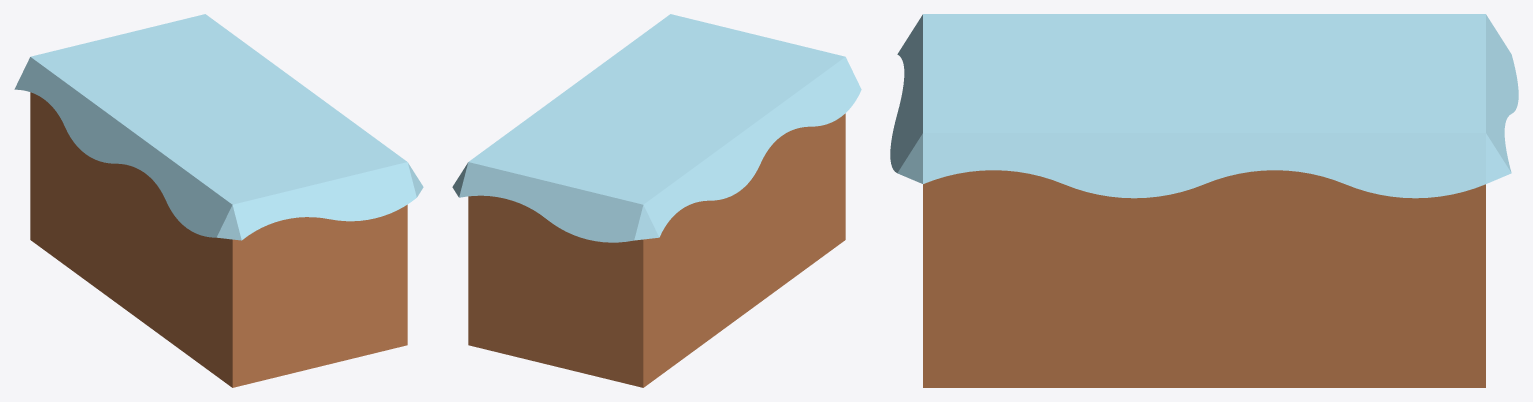
Rendered from blockSnowLong.glb.
3 renders of one model, left to right at view 1: azimuth 30°, elevation 25°; view 2: azimuth 150°, elevation 25°; view 3: azimuth 270°, elevation 25°, orthographic. The views are drawn at different scales.
Parts seen in each view (by area): view 1: blockSnowLong; view 2: blockSnowLong; view 3: blockSnowLong.
Part boxes in pixels (box(x1,y1,x2,y2)): blockSnowLong: box(14, 14, 423, 387); blockSnowLong: box(452, 14, 861, 387); blockSnowLong: box(890, 14, 1518, 387).
Size of the model in its own units: 1.23 by 1 by 2.23.
